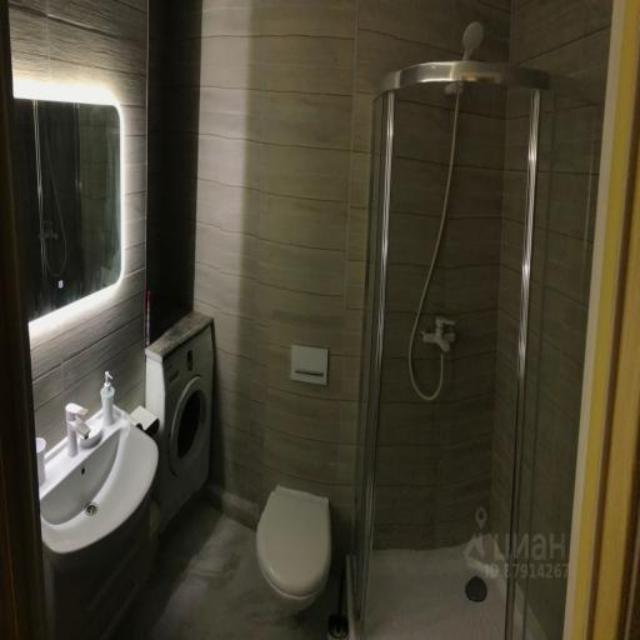Washing-Machine: (143, 300, 215, 532)
